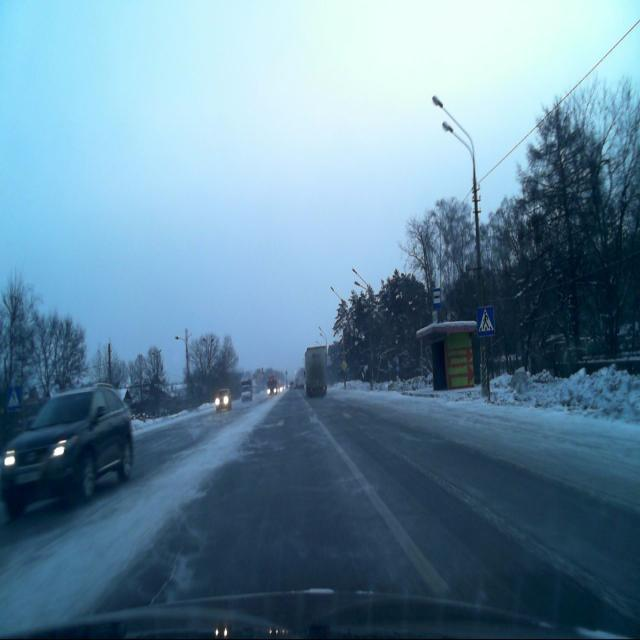road sign: (476, 305, 495, 336), (432, 288, 441, 308)
